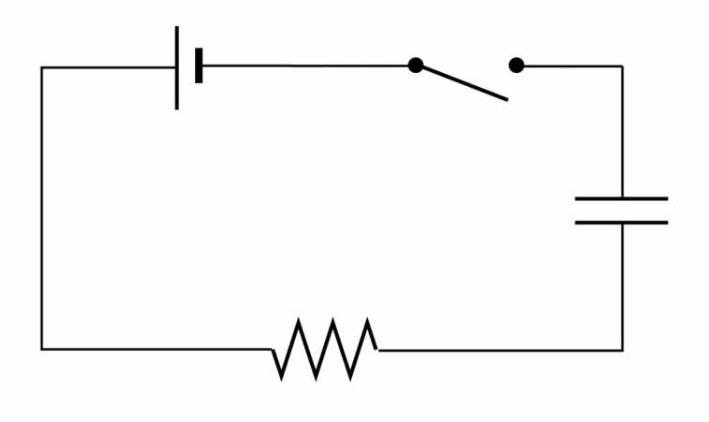Capacitor: (542, 159, 685, 242)
